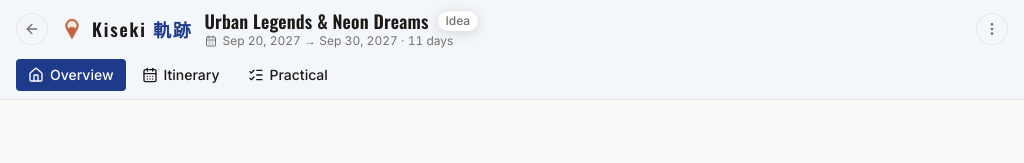
Test: TripLayout › an anonymous visitor on a public trip gets sign-in + follow, never the booklet (#423)
Step 1. Click the button named "Trip actions" → (992, 29), box [976,13,1008,45]
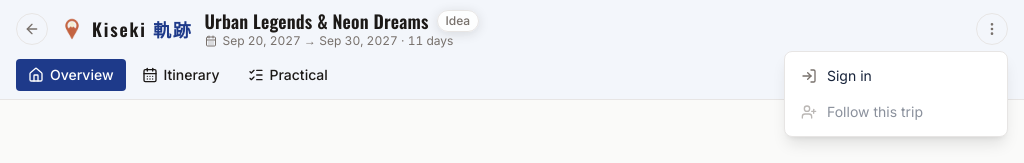
Result: the text "Sign in" is shown at [827,66,872,86]
Result: the text "Follow this trip" is shown at [827,102,923,122]
